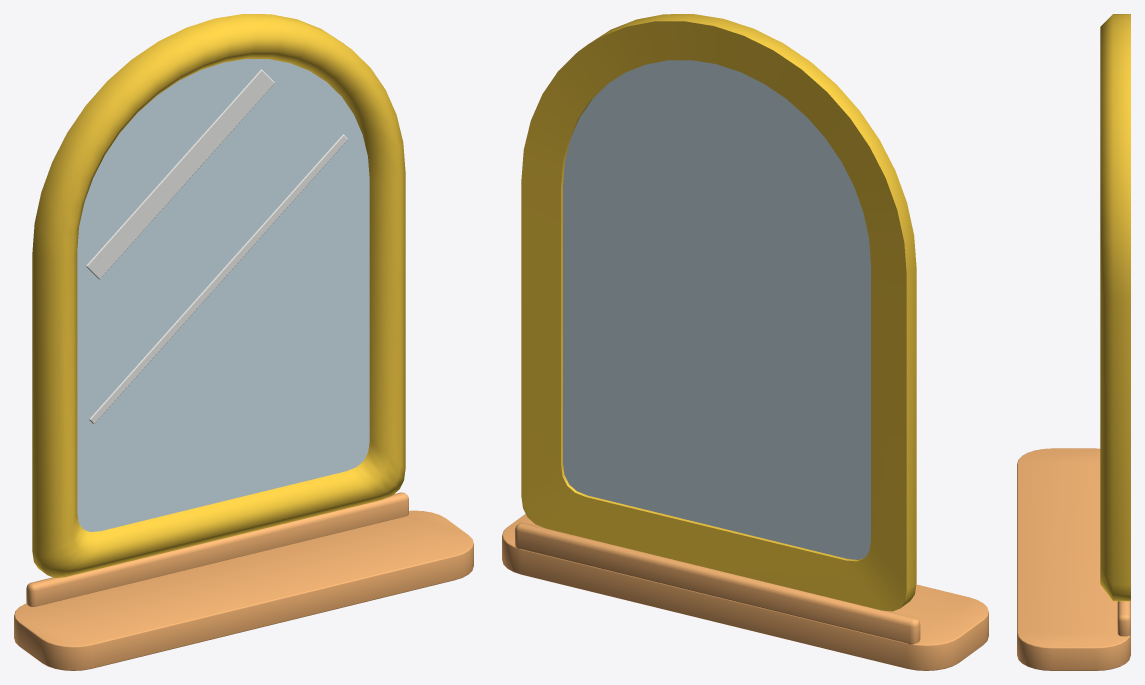
The model's file is espelho_arco_prateleira_amarelo.glb.
The picture shows the model from 3 angles, left to right: view 1: azimuth 30°, elevation 25°; view 2: azimuth 150°, elevation 25°; view 3: azimuth 270°, elevation 25°; orthographic projection. The views are drawn at different scales.
Visible parts, largest first — view 1: espelho_arco_prateleira_amarelo; view 2: espelho_arco_prateleira_amarelo; view 3: espelho_arco_prateleira_amarelo.
Part boxes in pixels (x1,y1,x2,y2): espelho_arco_prateleira_amarelo: (14,14,473,670); espelho_arco_prateleira_amarelo: (502,14,988,670); espelho_arco_prateleira_amarelo: (1017,14,1130,670).
Bounding box in the file's own units: 0.54 × 0.68 × 0.13.
2 materials, 1 textured.
